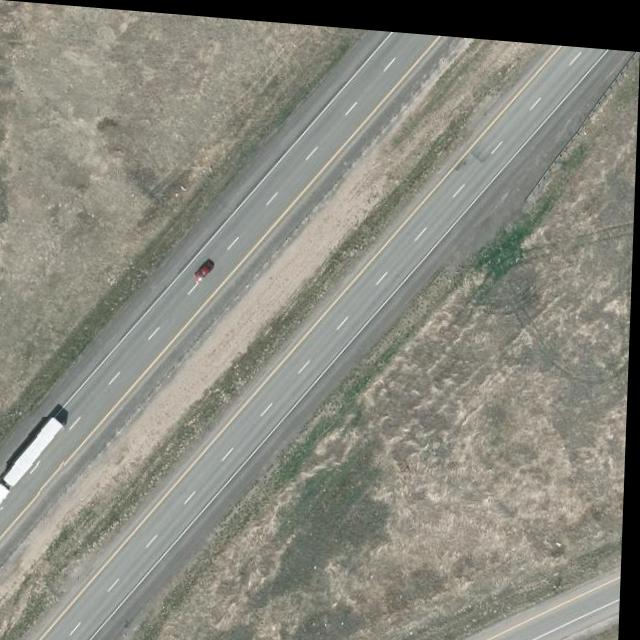vehicle: (0, 413, 71, 513), (196, 256, 217, 282)
